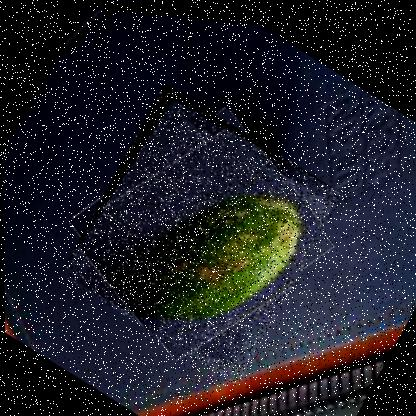orange_rotten: (56, 71, 345, 389)
